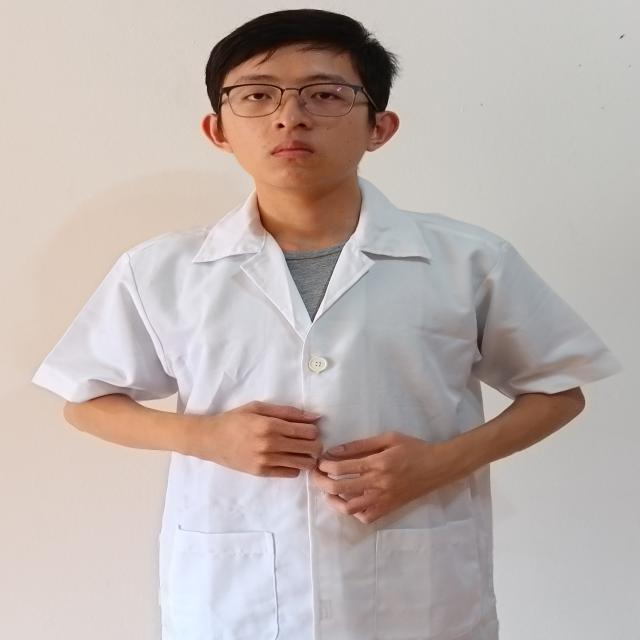person_with_labcoat: (33, 9, 619, 640)
